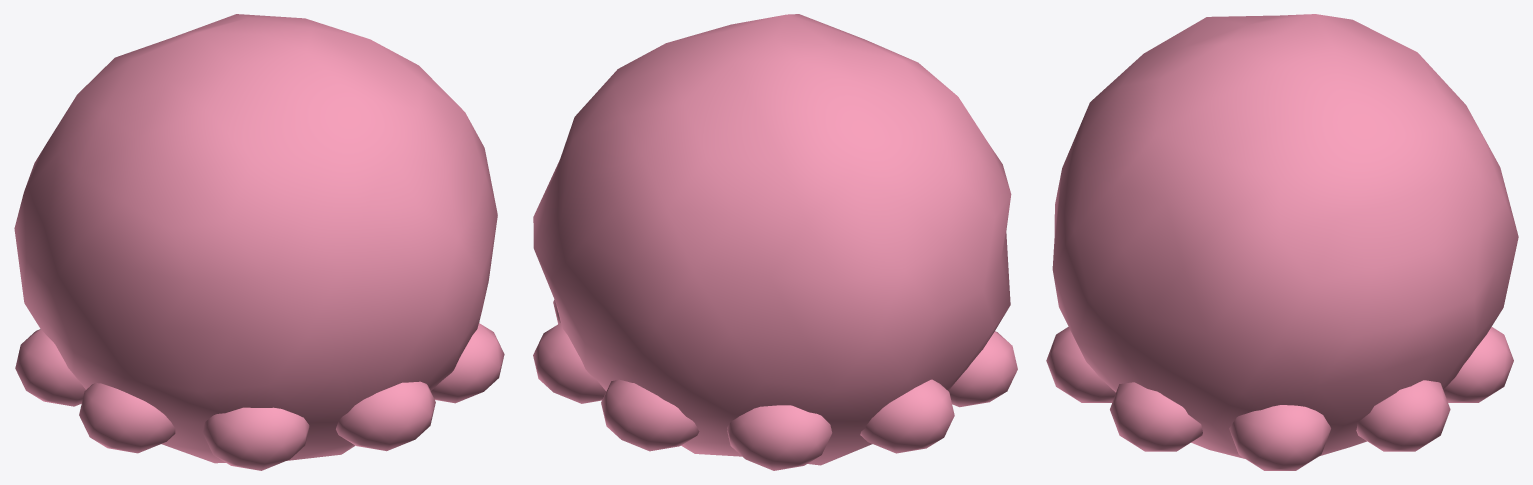
File: Strawberry_scoop.fbx
3 views of the same model, side by side, from view 1: azimuth 30°, elevation 25°; view 2: azimuth 150°, elevation 25°; view 3: azimuth 270°, elevation 25° (orthographic).
Visible parts, largest first — view 1: Toon_Strawberry_scoop Strawberry scoop.001, Toon_Strawberry_scoop Ruffled scoop edge.015, Toon_Strawberry_scoop Ruffled scoop edge.016, Toon_Strawberry_scoop Ruffled scoop edge.014, Toon_Strawberry_scoop Ruffled scoop edge.013, Toon_Strawberry_scoop Ruffled scoop edge.017; view 2: Toon_Strawberry_scoop Strawberry scoop.001, Toon_Strawberry_scoop Ruffled scoop edge.012, Toon_Strawberry_scoop Ruffled scoop edge.011, Toon_Strawberry_scoop Ruffled scoop edge.013, Toon_Strawberry_scoop Ruffled scoop edge.010, Toon_Strawberry_scoop Ruffled scoop edge.014; view 3: Toon_Strawberry_scoop Strawberry scoop.001, Toon_Strawberry_scoop Ruffled scoop edge.009, Toon_Strawberry_scoop Ruffled scoop edge.010, Toon_Strawberry_scoop Ruffled scoop edge.017, Toon_Strawberry_scoop Ruffled scoop edge.011, Toon_Strawberry_scoop Ruffled scoop edge.016.
Boxes of the visible parts, left/top/right/bottom form: Toon_Strawberry_scoop Strawberry scoop.001: left=14, top=14, right=497, bottom=463; Toon_Strawberry_scoop Ruffled scoop edge.015: left=202, top=407, right=309, bottom=470; Toon_Strawberry_scoop Ruffled scoop edge.016: left=336, top=381, right=435, bottom=451; Toon_Strawberry_scoop Ruffled scoop edge.014: left=79, top=382, right=175, bottom=453; Toon_Strawberry_scoop Ruffled scoop edge.013: left=15, top=329, right=85, bottom=406; Toon_Strawberry_scoop Ruffled scoop edge.017: left=431, top=323, right=504, bottom=403; Toon_Strawberry_scoop Strawberry scoop.001: left=533, top=14, right=1011, bottom=465; Toon_Strawberry_scoop Ruffled scoop edge.012: left=727, top=405, right=832, bottom=470; Toon_Strawberry_scoop Ruffled scoop edge.011: left=601, top=379, right=699, bottom=451; Toon_Strawberry_scoop Ruffled scoop edge.013: left=860, top=379, right=954, bottom=453; Toon_Strawberry_scoop Ruffled scoop edge.010: left=533, top=323, right=606, bottom=403; Toon_Strawberry_scoop Ruffled scoop edge.014: left=948, top=331, right=1017, bottom=407; Toon_Strawberry_scoop Strawberry scoop.001: left=1052, top=14, right=1518, bottom=458; Toon_Strawberry_scoop Ruffled scoop edge.009: left=1229, top=405, right=1330, bottom=470; Toon_Strawberry_scoop Ruffled scoop edge.010: left=1356, top=380, right=1450, bottom=451; Toon_Strawberry_scoop Ruffled scoop edge.017: left=1110, top=382, right=1202, bottom=451; Toon_Strawberry_scoop Ruffled scoop edge.011: left=1443, top=327, right=1513, bottom=402; Toon_Strawberry_scoop Ruffled scoop edge.016: left=1046, top=327, right=1115, bottom=402.
Size of the model in its own units: 10.56 by 9.6 by 10.18.
